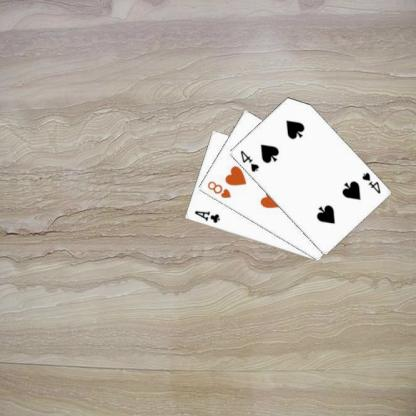4S: (237, 147, 260, 173), (358, 169, 381, 195)
8H: (204, 178, 232, 199)
AC: (192, 208, 221, 224)
